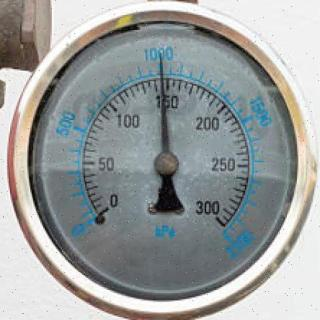gauge: (0, 0, 320, 320), (192, 198, 244, 250), (78, 190, 124, 238), (152, 150, 180, 178), (154, 47, 168, 67)
